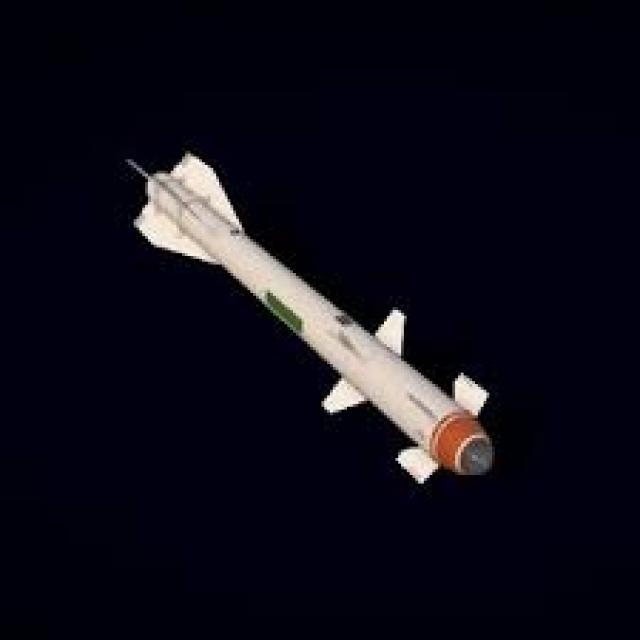missile: (126, 153, 494, 489)
